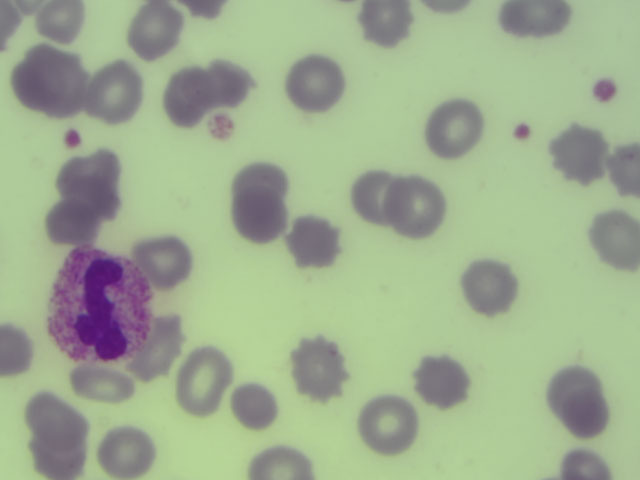Platelets: (207, 112, 235, 142), (591, 75, 617, 99), (61, 127, 82, 148), (515, 125, 529, 139)
RBC: (12, 43, 84, 117), (544, 114, 607, 188), (128, 221, 191, 290), (173, 343, 232, 415), (287, 335, 352, 400), (127, 306, 183, 380), (423, 99, 488, 161), (358, 393, 423, 455), (411, 347, 476, 409), (229, 182, 294, 244), (383, 174, 448, 236), (284, 49, 349, 111), (457, 258, 522, 320), (287, 212, 348, 271), (96, 423, 156, 476), (546, 363, 604, 417), (91, 59, 140, 122), (161, 68, 215, 125), (127, 1, 180, 59), (589, 209, 640, 269), (26, 383, 82, 436), (352, 171, 406, 225), (30, 431, 88, 480), (234, 160, 291, 209), (499, 1, 569, 40), (45, 201, 97, 251), (56, 149, 108, 199), (208, 56, 260, 106), (358, 1, 413, 47), (34, 1, 86, 49), (562, 390, 610, 440), (65, 365, 135, 399), (233, 380, 278, 429), (1, 326, 40, 380), (252, 445, 312, 480), (609, 143, 640, 200), (556, 449, 612, 480), (421, 1, 481, 15), (184, 1, 228, 20), (1, 1, 20, 41)
WBC: (48, 250, 154, 370)
